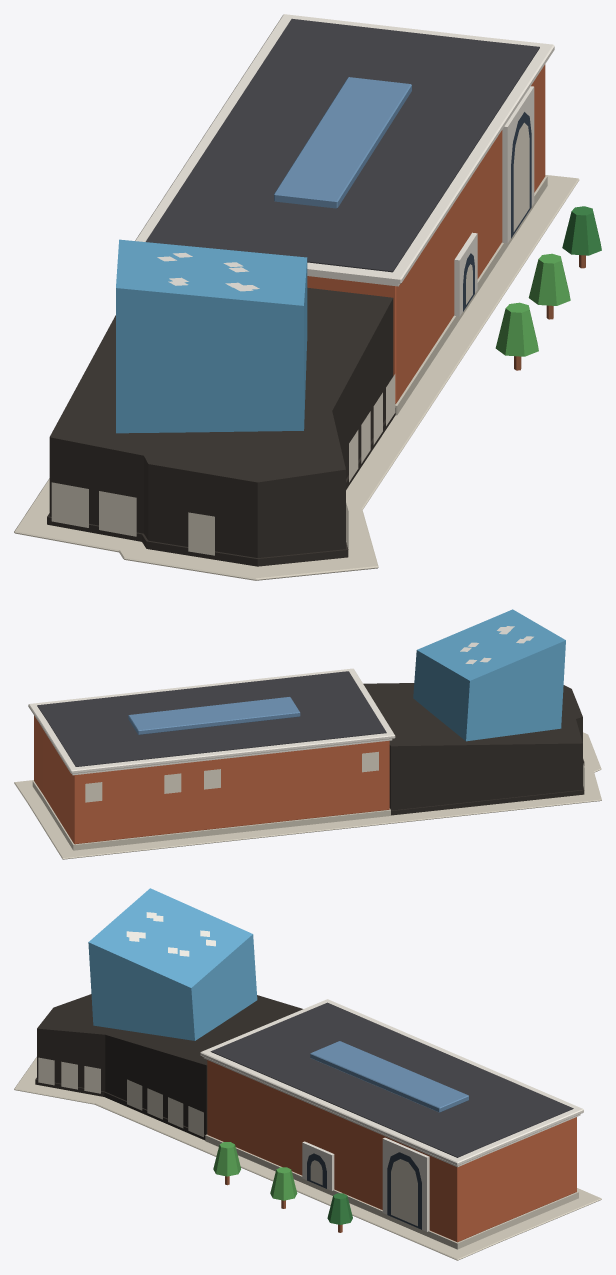
File: 736-mission-street.glb
3 views of the same model, one above another, from view 1: azimuth 30°, elevation 25°; view 2: azimuth 150°, elevation 25°; view 3: azimuth 270°, elevation 25° (orthographic). The views are drawn at different scales.
Visible parts, largest first — view 1: 736-mission-street_body, 736-mission-street_night_glow; view 2: 736-mission-street_body, 736-mission-street_night_glow; view 3: 736-mission-street_body, 736-mission-street_night_glow.
Part boxes in pixels (x1,y1,x2,y2): 736-mission-street_body: (14, 14, 601, 580); 736-mission-street_night_glow: (51, 122, 529, 555); 736-mission-street_body: (14, 609, 601, 859); 736-mission-street_night_glow: (85, 626, 584, 802); 736-mission-street_body: (14, 888, 601, 1260); 736-mission-street_night_glow: (38, 912, 417, 1226).
Bounding box in the file's own units: 81.95 × 24 × 83.26.
